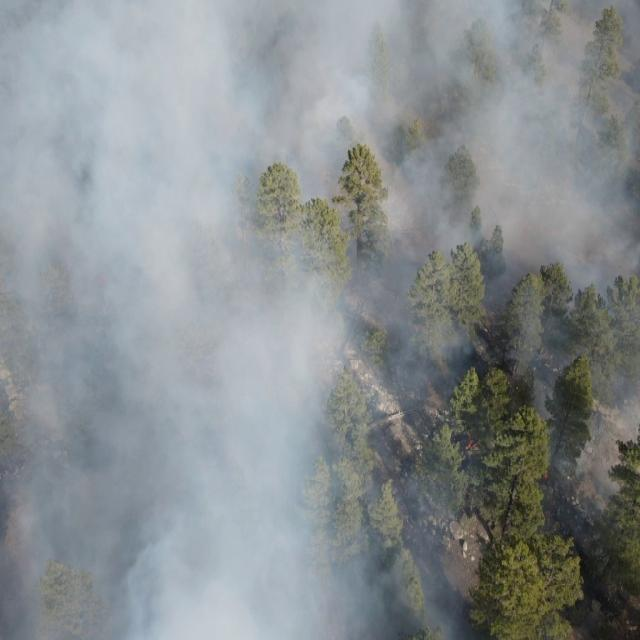fire: (461, 441, 477, 455)
smoke: (0, 0, 640, 405), (0, 406, 451, 640), (532, 407, 640, 538), (452, 540, 501, 631)
